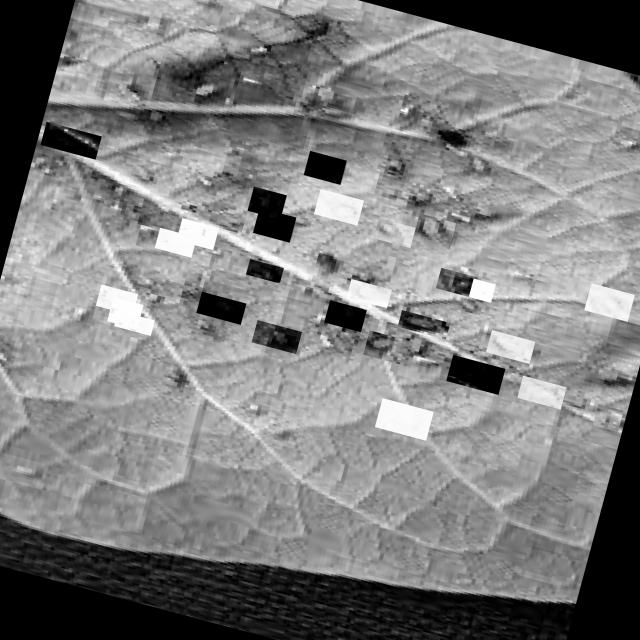aphid: (374, 396, 434, 439), (446, 354, 505, 394), (40, 120, 101, 158), (242, 412, 304, 448), (584, 282, 634, 321), (314, 188, 364, 225), (0, 451, 48, 489), (363, 329, 413, 365), (252, 319, 302, 353), (196, 290, 246, 324), (486, 328, 535, 362), (517, 374, 566, 408), (412, 212, 457, 248), (397, 309, 450, 338), (254, 206, 296, 242), (304, 150, 347, 183), (176, 217, 219, 249), (324, 299, 366, 331), (96, 283, 138, 314), (154, 226, 197, 256), (346, 278, 392, 306), (374, 217, 416, 247), (248, 185, 286, 218), (107, 296, 143, 328), (436, 266, 474, 296), (458, 274, 496, 302), (114, 310, 154, 334), (246, 258, 284, 282), (592, 403, 624, 431)
